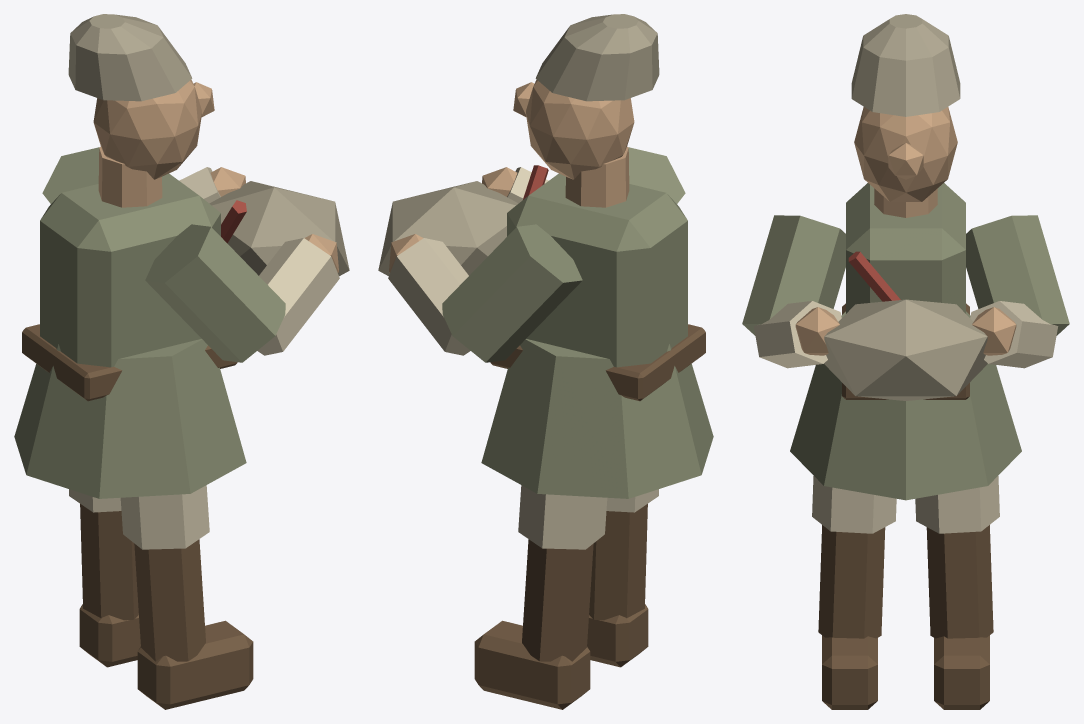
Rendered from civilian_child.glb.
3 renders of one model, left to right at view 1: azimuth 30°, elevation 25°; view 2: azimuth 150°, elevation 25°; view 3: azimuth 270°, elevation 25°, orthographic. The views are drawn at different scales.
Parts seen in each view (by area): view 1: civilian_child_civilian_wool, civilian_child_leather, civilian_child_padded_linen, civilian_child_skin, civilian_child_linen, civilian_child_team_cloth; view 2: civilian_child_civilian_wool, civilian_child_leather, civilian_child_padded_linen, civilian_child_skin, civilian_child_linen; view 3: civilian_child_civilian_wool, civilian_child_padded_linen, civilian_child_leather, civilian_child_linen, civilian_child_skin, civilian_child_team_cloth.
Boxes of the visible parts, x1,y1,x2,y2 form: civilian_child_civilian_wool: [14, 147, 285, 498]; civilian_child_leather: [22, 324, 253, 709]; civilian_child_padded_linen: [68, 14, 349, 276]; civilian_child_skin: [93, 79, 338, 272]; civilian_child_linen: [69, 167, 339, 549]; civilian_child_team_cloth: [221, 200, 246, 243]; civilian_child_civilian_wool: [442, 147, 713, 498]; civilian_child_leather: [474, 324, 705, 709]; civilian_child_padded_linen: [378, 14, 659, 276]; civilian_child_skin: [389, 79, 634, 272]; civilian_child_linen: [388, 167, 658, 549]; civilian_child_civilian_wool: [742, 183, 1069, 500]; civilian_child_padded_linen: [824, 14, 987, 400]; civilian_child_leather: [818, 303, 993, 709]; civilian_child_linen: [753, 301, 1058, 533]; civilian_child_skin: [795, 107, 1016, 355]; civilian_child_team_cloth: [848, 251, 900, 301].
Size of the model in its own units: 0.5762 by 1.19 by 0.5484.
